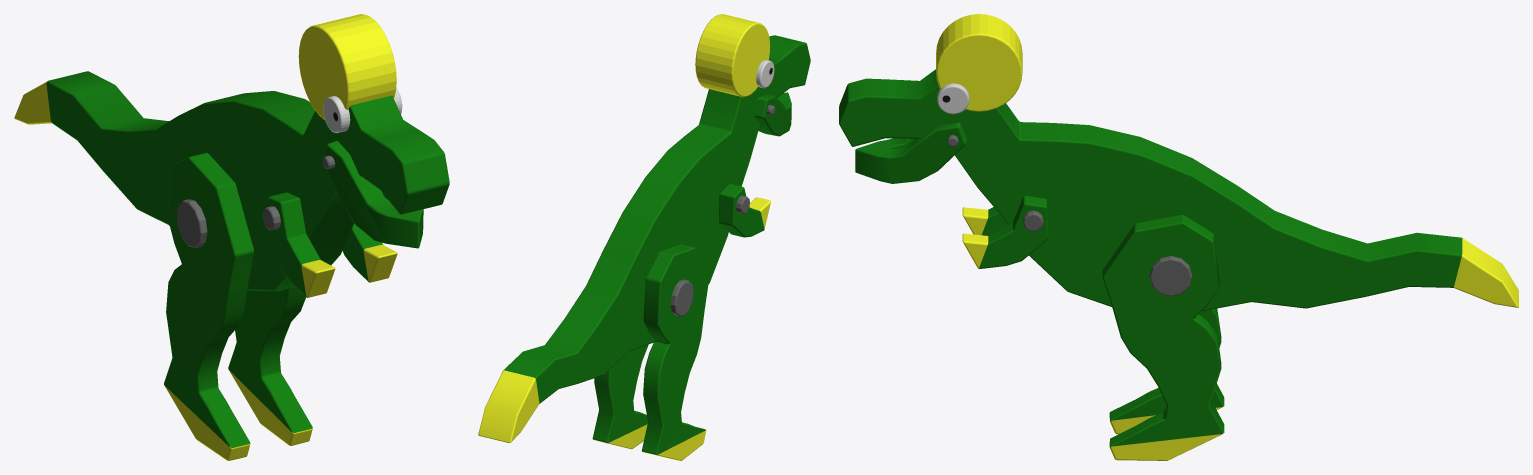
The model's file is tyranosaur.fbx.
3 renders of one model, left to right at view 1: azimuth 30°, elevation 25°; view 2: azimuth 150°, elevation 25°; view 3: azimuth 270°, elevation 25°, orthographic. The views are drawn at different scales.
Visible parts, largest first — view 1: WoodenToyTyranosaur, WoodenToyTyranosaurLegs, WoodenToyTyranosaurLegs.001, WoodenToyTyranosaurMouth; view 2: WoodenToyTyranosaur, WoodenToyTyranosaurLegs, WoodenToyTyranosaurLegs.001, WoodenToyTyranosaurMouth; view 3: WoodenToyTyranosaur, WoodenToyTyranosaurLegs, WoodenToyTyranosaurLegs.001, WoodenToyTyranosaurMouth.
Boxes of the visible parts, box(x1,y1,x2,y2) form: WoodenToyTyranosaur: box(14, 14, 449, 291); WoodenToyTyranosaurLegs: box(164, 152, 312, 460); WoodenToyTyranosaurLegs.001: box(262, 192, 397, 297); WoodenToyTyranosaurMouth: box(322, 140, 423, 248); WoodenToyTyranosaur: box(478, 14, 810, 442); WoodenToyTyranosaurLegs: box(592, 244, 708, 460); WoodenToyTyranosaurLegs.001: box(719, 184, 770, 237); WoodenToyTyranosaurMouth: box(754, 92, 791, 136); WoodenToyTyranosaur: box(839, 14, 1518, 311); WoodenToyTyranosaurLegs: box(1102, 215, 1224, 460); WoodenToyTyranosaurLegs.001: box(962, 195, 1048, 268); WoodenToyTyranosaurMouth: box(855, 122, 966, 183).
Bounding box in the file's own units: 0.9405 × 4.49 × 6.58.
